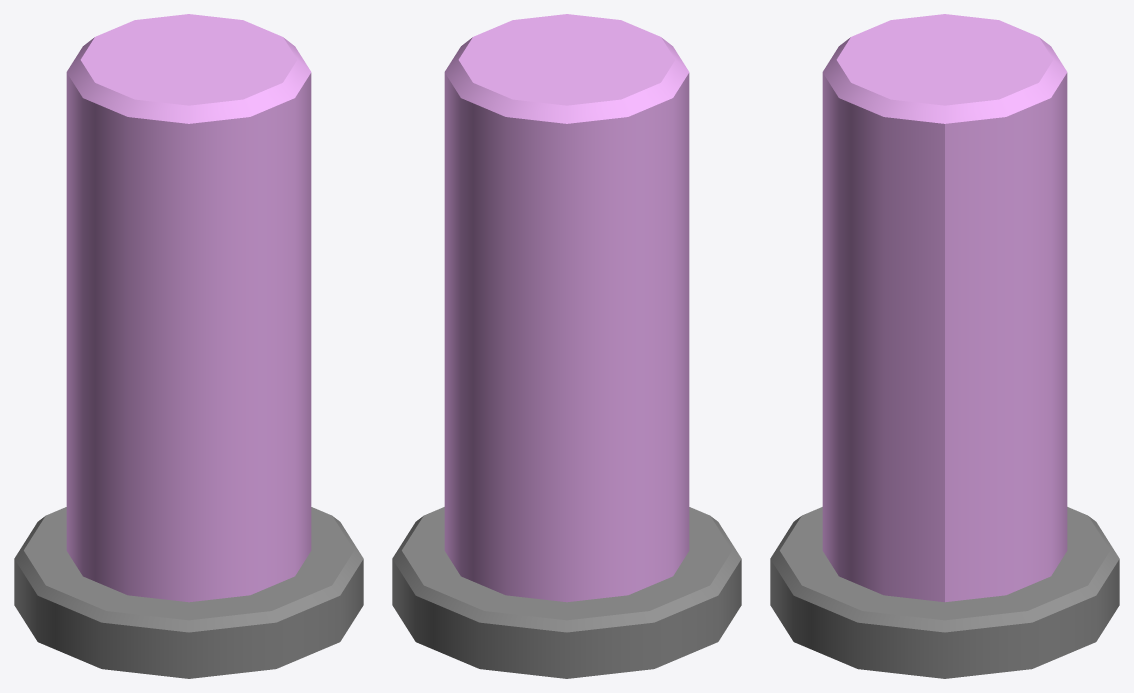
Rendered from Obstacle_17.fbx.
The picture shows the model from 3 angles, left to right: view 1: azimuth 30°, elevation 25°; view 2: azimuth 150°, elevation 25°; view 3: azimuth 270°, elevation 25°; orthographic projection.
Parts seen in each view (by area): view 1: Obstacle_17; view 2: Obstacle_17; view 3: Obstacle_17.
Part boxes in pixels (x1,y1,x2,y2): Obstacle_17: (14,14,363,678); Obstacle_17: (392,14,741,678); Obstacle_17: (770,14,1119,678).
Size of the model in its own units: 0.468 by 0.806 by 0.4681.
